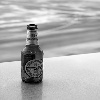beer: (19, 24, 46, 86)
